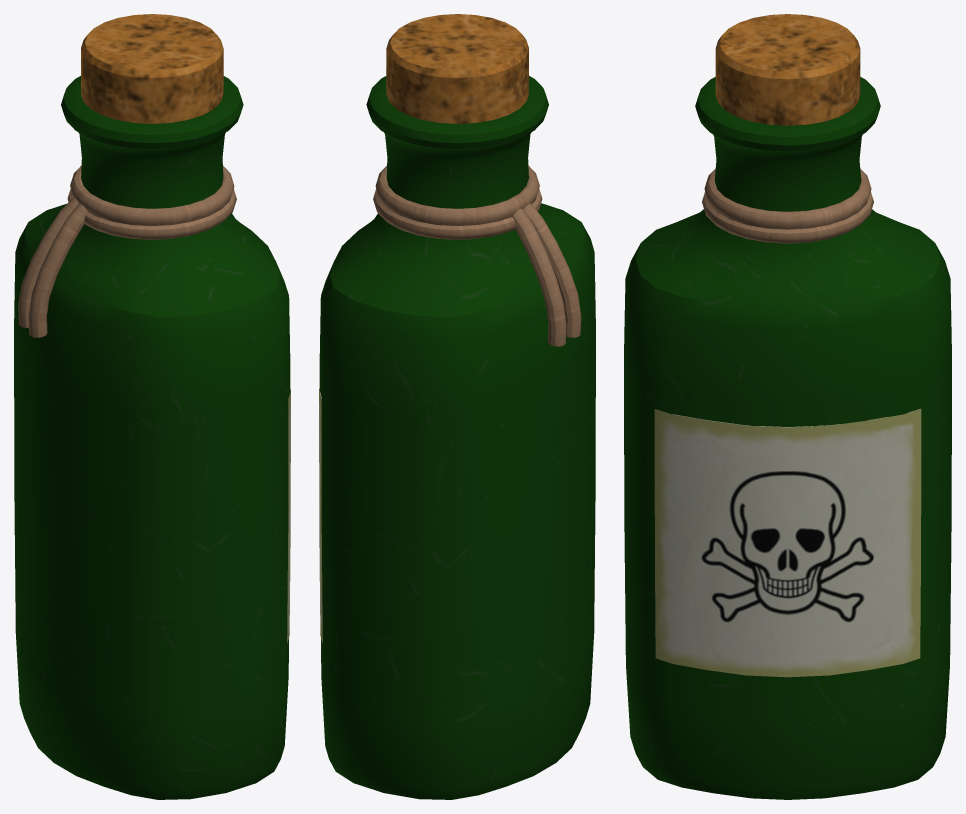
Rendered from cartoon poison.fbx.
3 views of the same model, side by side, from view 1: azimuth 30°, elevation 25°; view 2: azimuth 150°, elevation 25°; view 3: azimuth 270°, elevation 25° (orthographic).
Parts seen in each view (by area): view 1: Posion; view 2: Posion; view 3: Posion.
Part boxes in pixels (x1=…): Posion: x1=14, y1=14, x2=290, y2=799; Posion: x1=319, y1=14, x2=595, y2=799; Posion: x1=624, y1=14, x2=951, y2=799.
Size of the model in its own units: 75.89 by 220 by 92.09.
Materials: 1 (1 with a texture image).
